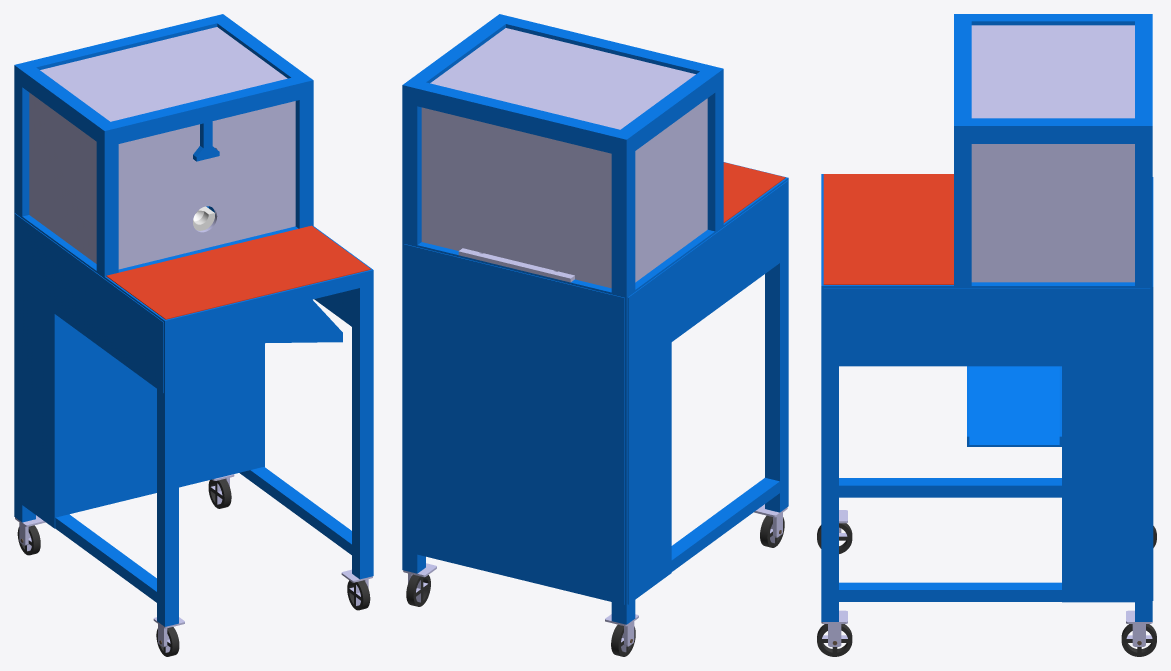
The model's file is Unnamed-assemblage_decarotage.gltf.
3 renders of one model, left to right at view 1: azimuth 30°, elevation 25°; view 2: azimuth 150°, elevation 25°; view 3: azimuth 270°, elevation 25°, orthographic. The views are drawn at different scales.
Parts seen in each view (by area): view 1: support_decrottage001, Plaque_Frontale, Plaque_haut_decarottage, Plaque_Lateral_decarotage001, roue-convoyeur002, roue-convoyeur, roue-convoyeur001, roue-convoyeur003; view 2: support_decrottage001, Plaque_arriere_decarotage, Plaque_haut_decarottage, Plaque_Lateral_decarotage001, support_moteur_decarotage, roue-convoyeur003, roue-convoyeur001, roue-convoyeur; view 3: support_decrottage001, Plaque_Lateral_decarotage, Plaque_haut_decarottage, roue-convoyeur002, roue-convoyeur003, roue-convoyeur001.
Boxes of the visible parts, x1,y1,x2,y2 form: support_decrottage001: (14,14,373,626); Plaque_Frontale: (118,101,295,269); Plaque_haut_decarottage: (40,27,287,121); Plaque_Lateral_decarotage001: (29,92,96,263); roue-convoyeur002: (341,569,372,610); roue-convoyeur: (15,515,45,555); roue-convoyeur001: (153,617,184,656); roue-convoyeur003: (208,474,234,508); support_decrottage001: (402,14,788,624); Plaque_arriere_decarotage: (421,107,611,288); Plaque_haut_decarottage: (430,28,695,129); Plaque_Lateral_decarotage001: (635,98,707,282); support_moteur_decarotage: (458,248,574,282); roue-convoyeur003: (403,563,436,606); roue-convoyeur001: (754,504,787,547); roue-convoyeur: (605,614,638,656); support_decrottage001: (821,14,1153,621); Plaque_Lateral_decarotage: (971,144,1134,282); Plaque_haut_decarottage: (971,25,1134,118); roue-convoyeur002: (817,610,852,656); roue-convoyeur003: (1121,610,1156,656); roue-convoyeur001: (817,510,852,553).
Size of the model in its own units: 0.704 by 1.34 by 0.77.
